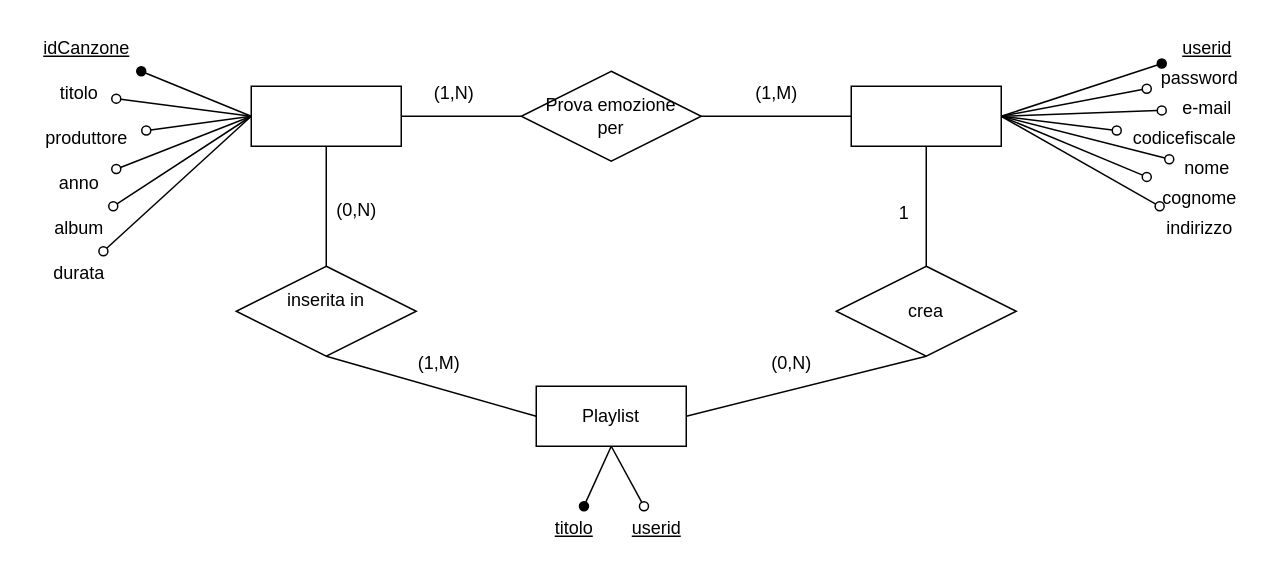
Some shapes in this 1277 by 576 pixel diagram are drawn without their labels. The centre of each missing label's shape, as x and y in pixels:
"Canzone" goes at pixel 325 115.
"Persona" goes at pixel 925 115.
